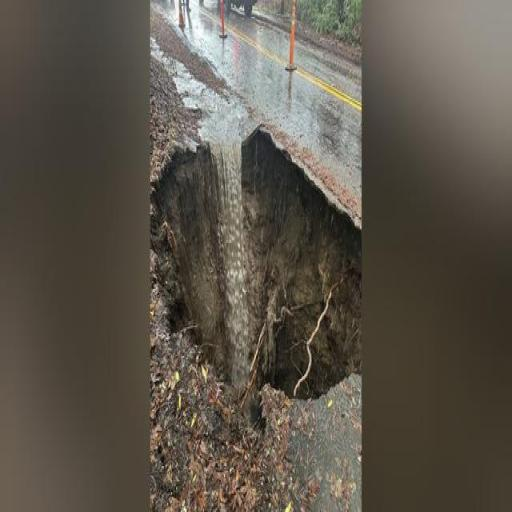Concentric_Crack: (151, 128, 361, 396)
